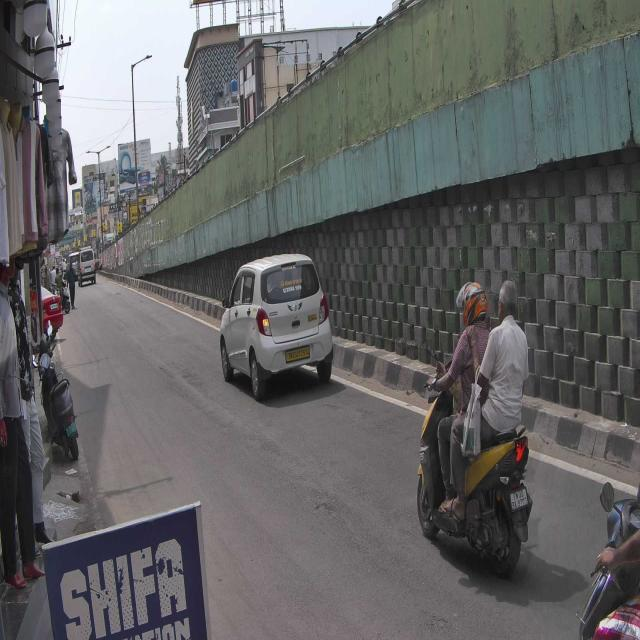double_rider: (414, 278, 534, 577)
